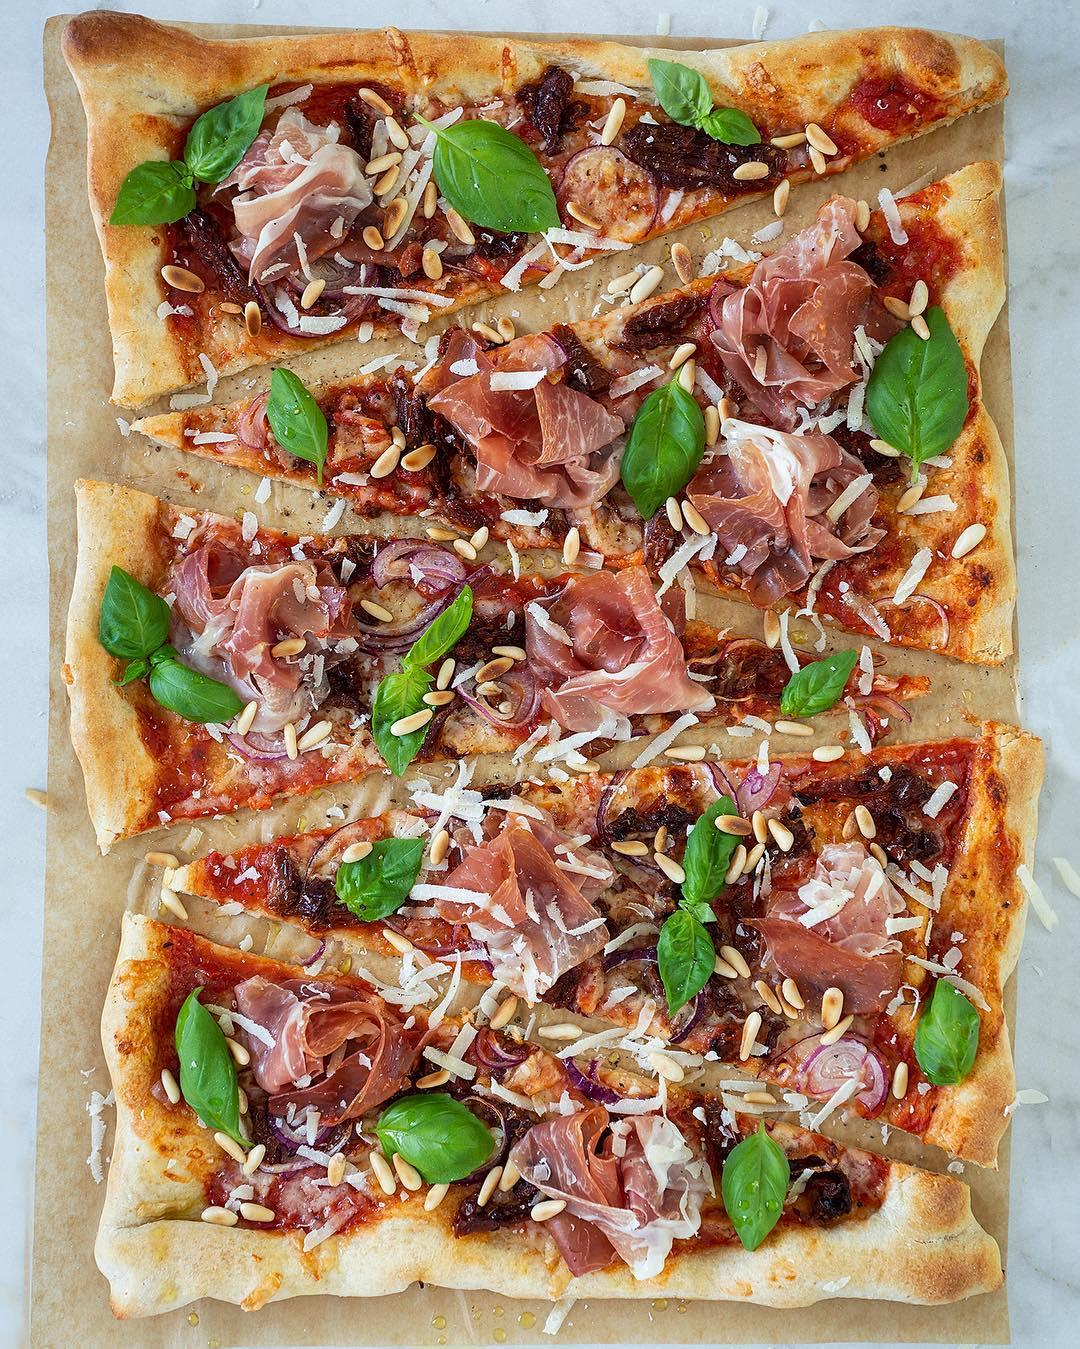Basil: (866, 307, 974, 463), (432, 128, 559, 234), (628, 386, 703, 515), (382, 1098, 484, 1181), (177, 1000, 237, 1129), (341, 838, 425, 926), (194, 80, 268, 180), (725, 1129, 786, 1249), (145, 654, 241, 722), (105, 570, 175, 654), (680, 798, 735, 905), (657, 905, 712, 1011), (377, 670, 431, 769), (402, 592, 471, 670), (274, 367, 328, 461), (107, 166, 194, 223), (780, 649, 856, 712), (649, 61, 710, 126), (710, 106, 762, 147)
Ham: (446, 350, 616, 507), (537, 1116, 696, 1272), (525, 582, 687, 712), (721, 434, 857, 581), (773, 859, 896, 1018), (462, 832, 600, 972), (239, 976, 381, 1108), (710, 260, 849, 392), (246, 133, 361, 276), (186, 563, 333, 646)
Pizza: (72, 18, 1008, 1298)
